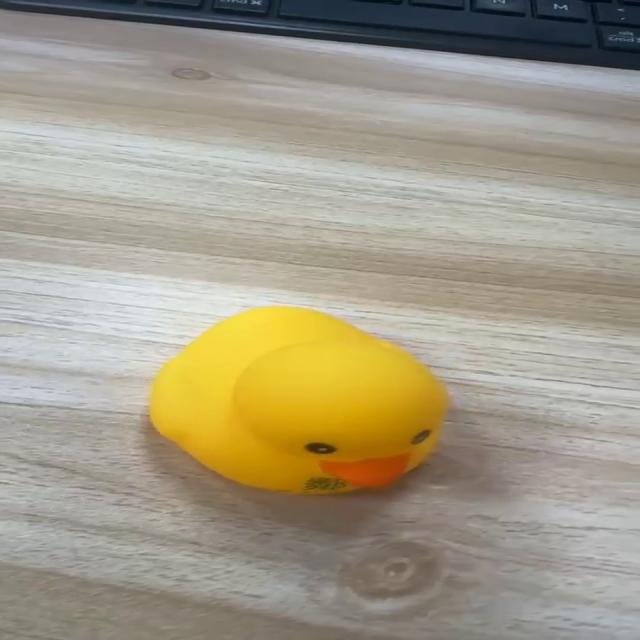yellow_duck: (146, 303, 450, 496)
